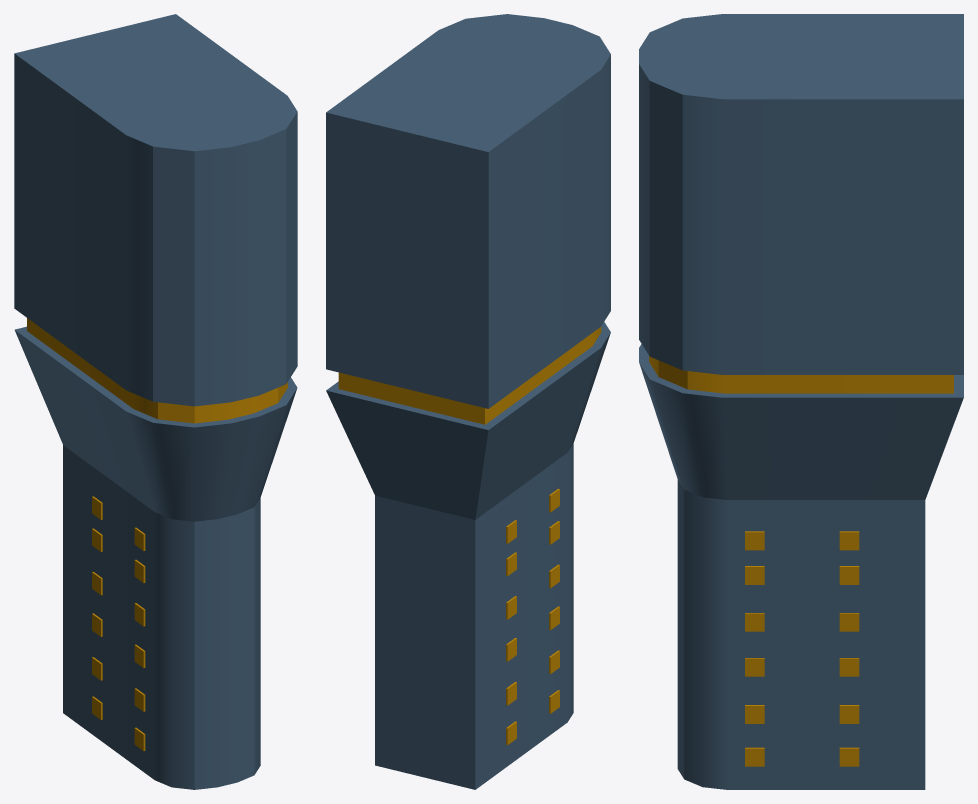
File: House9.fbx
3 renders of one model, left to right at view 1: azimuth 30°, elevation 25°; view 2: azimuth 150°, elevation 25°; view 3: azimuth 270°, elevation 25°, orthographic. The views are drawn at different scales.
Visible parts, largest first — view 1: House_R_9; view 2: House_R_9; view 3: House_R_9.
Boxes of the visible parts, x1,y1,x2,y2 form: House_R_9: (14,14,297,789); House_R_9: (326,14,610,789); House_R_9: (639,14,963,789).
Bounding box in the file's own units: 1111 × 4303 × 1791.
